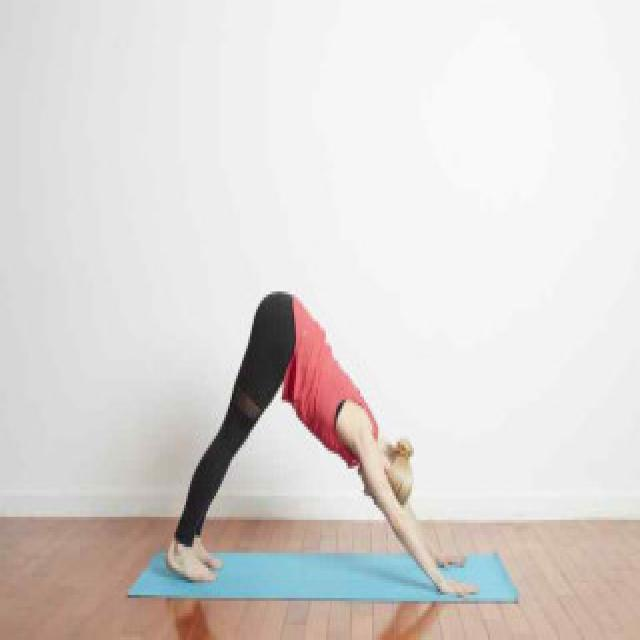yoga-pose downward: (154, 288, 470, 586)
